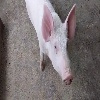heo: (38, 1, 78, 86)
